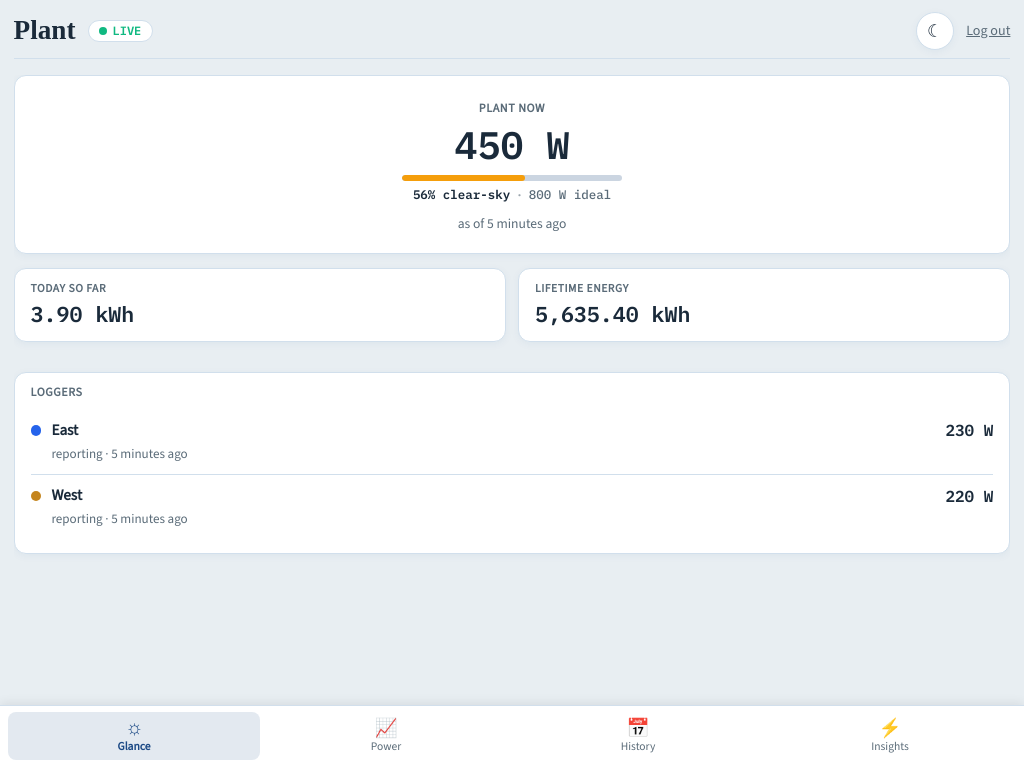
Test case: MobilePlantView (Azulejo Moderno 4-Tab Dock) › switches to History tab and displays Day, Month, Year grain switcher
Click the tab "📅 History" at (638, 736), box [512,712,764,760]
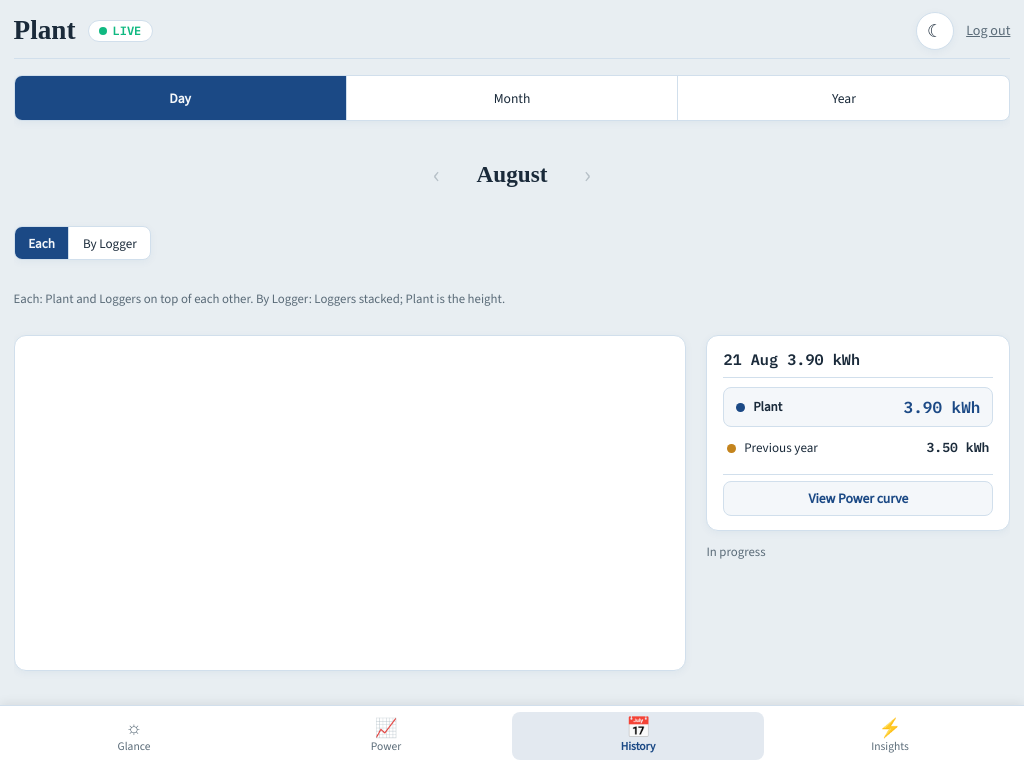
Result: the navigation bar named "History Grain" is shown at [14,75,1010,121]
Result: the link "Month" is shown
Result: the link "Year" is shown at [832,89,856,107]
// Switch to Month grain
Click the link "Month" at (512, 98), box [346,76,678,120]
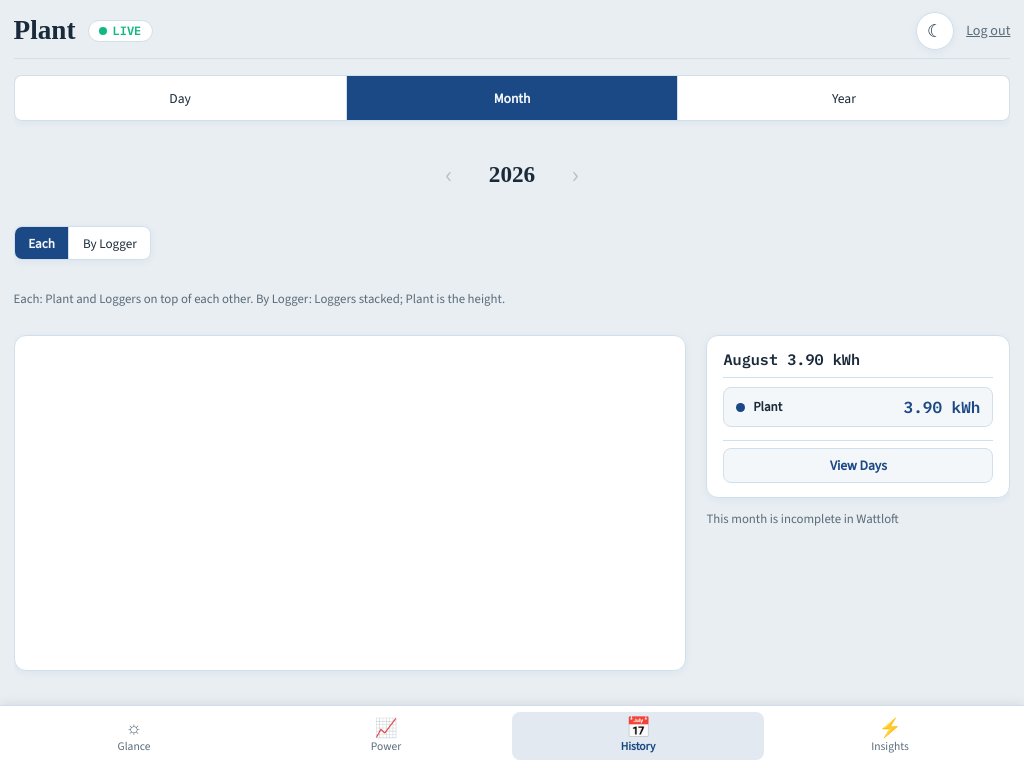
Expected: the text "Wattloft History · from 21 Aug" is shown, [432,709,592,726]
Result: the navigation bar named "Period" is shown at [445,157,579,191]
// Switch to Year grain: PeriodStepper hidden, footer rendered
Click the link "Year" at (844, 98), box [832,89,856,107]
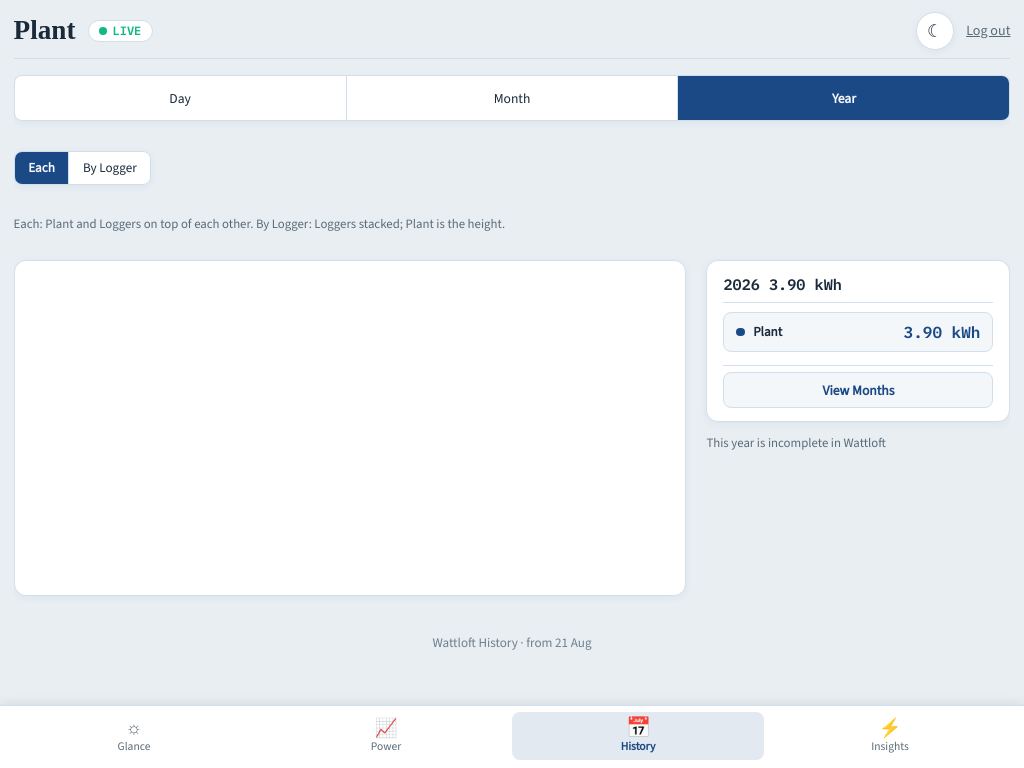
Result: the text "Wattloft History · from 21 Aug" is shown at [432,634,592,651]
Result: the navigation bar "Period" is gone
